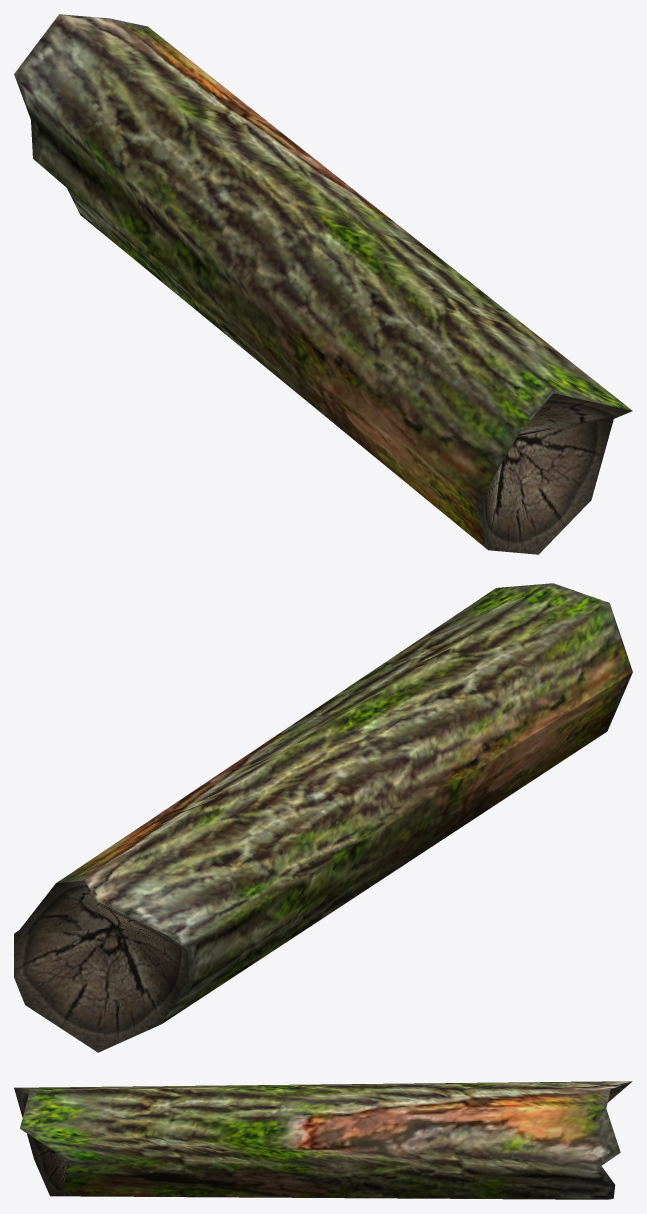
Rendered from TREE_04M.glb.
The picture shows the model from 3 angles, top to bottom: view 1: azimuth 30°, elevation 25°; view 2: azimuth 150°, elevation 25°; view 3: azimuth 270°, elevation 25°; orthographic projection. The views are drawn at different scales.
Visible parts, largest first — view 1: TREE_04M; view 2: TREE_04M; view 3: TREE_04M.
Part boxes in pixels (bbox=[...]): TREE_04M: bbox=[14, 14, 632, 554]; TREE_04M: bbox=[14, 583, 632, 1052]; TREE_04M: bbox=[14, 1081, 632, 1199].
Bounding box in the file's own units: 0.9574 × 0.8816 × 4.26.
2 materials, 2 textured.
